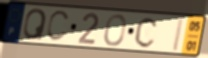2: (76, 12, 100, 46)
C: (45, 10, 72, 44), (133, 16, 160, 50)
I: (170, 16, 187, 53)
O: (103, 13, 128, 48)
Q: (22, 7, 49, 42)
